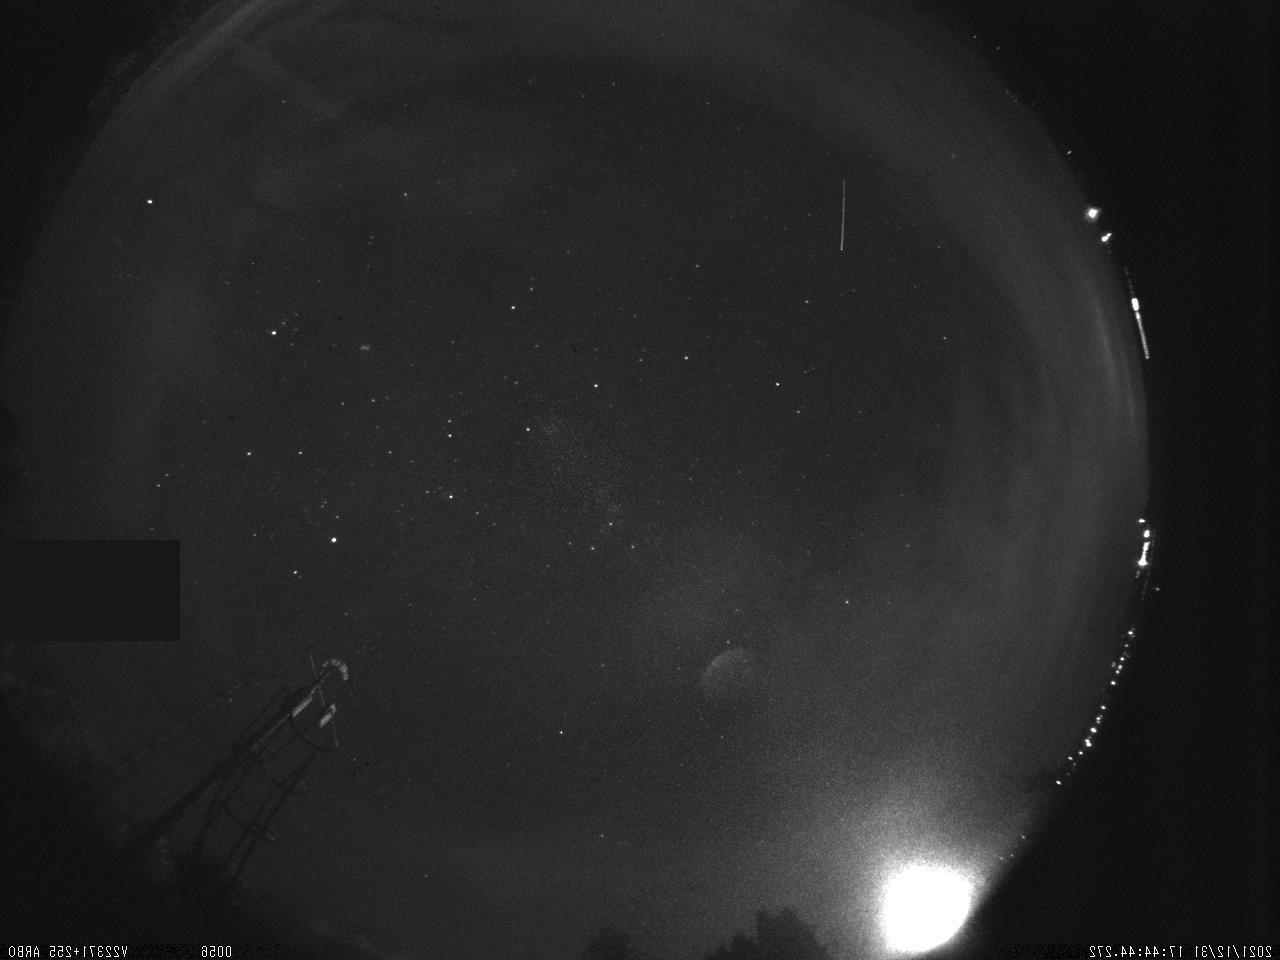meteor: (816, 175, 867, 260)
